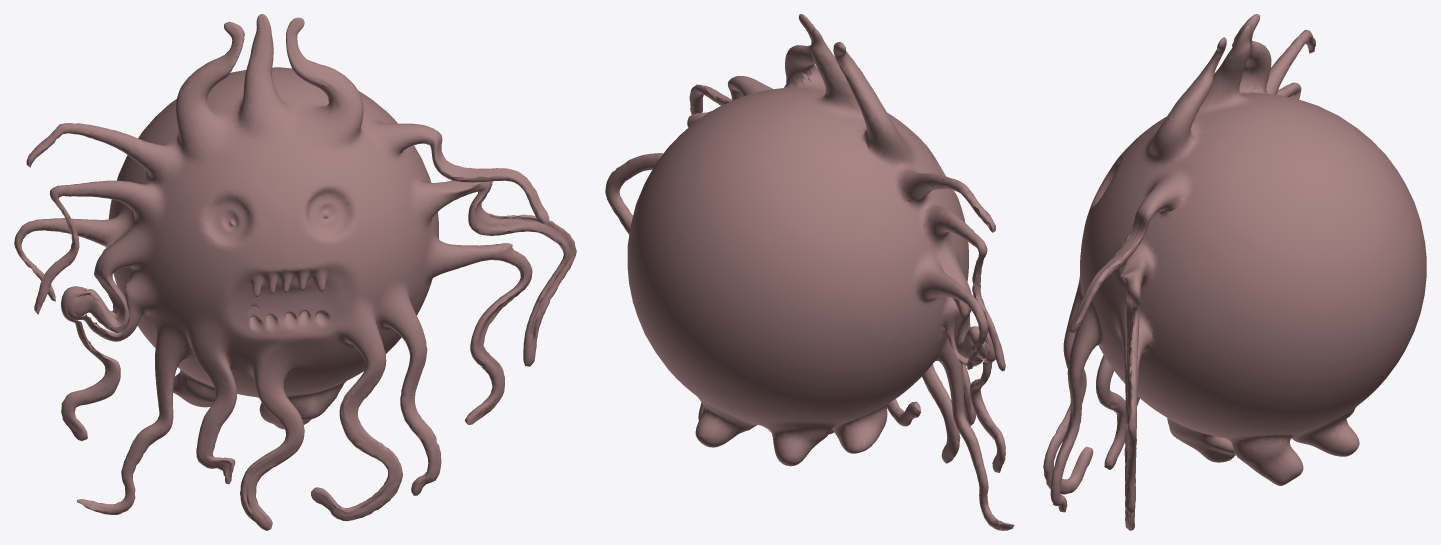
Rendered from medusas_pet.glb.
3 views of the same model, side by side, from view 1: azimuth 30°, elevation 25°; view 2: azimuth 150°, elevation 25°; view 3: azimuth 270°, elevation 25° (orthographic). The views are drawn at different scales.
Visible parts, largest first — view 1: Object_2; view 2: Object_2; view 3: Object_2.
Part boxes in pixels (box(x1,y1,x2,y2)): Object_2: box(14, 14, 576, 530); Object_2: box(605, 14, 1014, 530); Object_2: box(1043, 14, 1426, 530).
Bounding box in the file's own units: 3.25 × 3.03 × 2.21.
